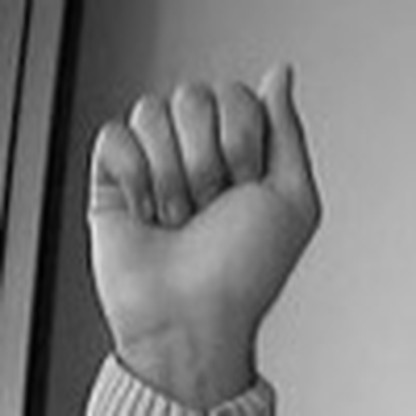a: (67, 47, 338, 339)
